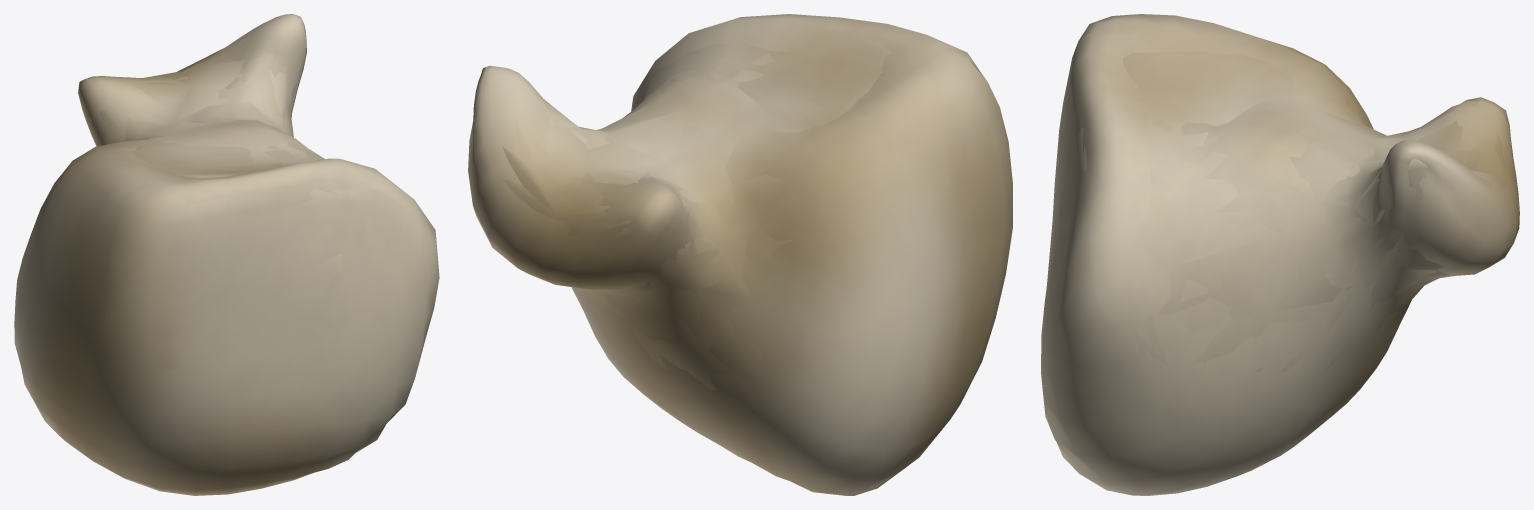
File: R tarsi centrale.fbx
3 views of the same model, side by side, from view 1: azimuth 30°, elevation 25°; view 2: azimuth 150°, elevation 25°; view 3: azimuth 270°, elevation 25° (orthographic). The views are drawn at different scales.
Visible parts, largest first — view 1: R tarsi centrale high, R tarsi centrale low, R tarsi centrale; view 2: R tarsi centrale high, R tarsi centrale low, R tarsi centrale; view 3: R tarsi centrale high, R tarsi centrale low, R tarsi centrale.
Boxes of the visible parts, box(x1,y1,x2,y2) form: R tarsi centrale high: box(14, 14, 439, 495); R tarsi centrale low: box(125, 48, 342, 275); R tarsi centrale: box(94, 38, 363, 370); R tarsi centrale high: box(468, 14, 1012, 495); R tarsi centrale low: box(502, 39, 885, 383); R tarsi centrale: box(502, 27, 902, 390); R tarsi centrale high: box(1041, 14, 1519, 495); R tarsi centrale low: box(1057, 50, 1505, 366); R tarsi centrale: box(1046, 29, 1514, 406).
Bounding box in the file's own units: 3.07 × 3.14 × 3.29.
